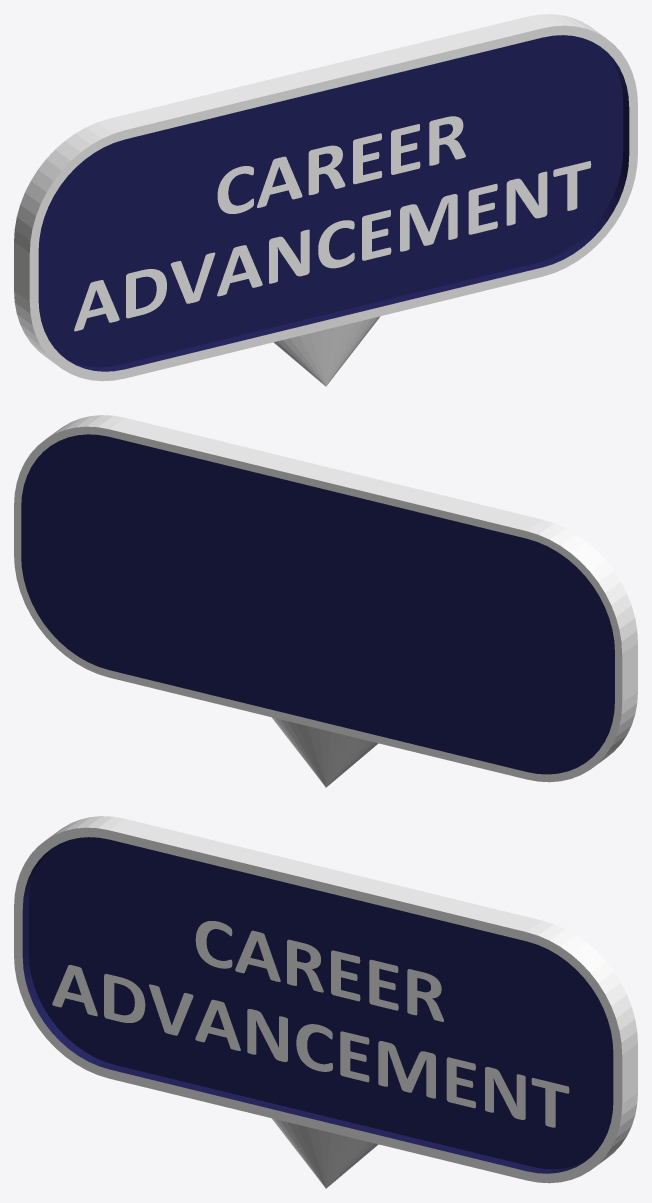
File: CareerAdvancedHoverd.glb
The picture shows the model from 3 angles, top to bottom: view 1: azimuth 30°, elevation 25°; view 2: azimuth 150°, elevation 25°; view 3: azimuth 330°, elevation 25°; orthographic projection.
Parts seen in each view (by area): view 1: 立方体, 文本, 立方体.001, 立方体.002, 立方体.004; view 2: 立方体, 立方体.003, 立方体.002, 立方体.004; view 3: 立方体, 文本, 立方体.001, 立方体.002, 立方体.004.
Part boxes in pixels (box(x1,y1,x2,y2)): 立方体: box(38, 35, 629, 371); 文本: box(74, 116, 591, 331); 立方体.001: box(29, 25, 637, 381); 立方体.002: box(14, 14, 603, 366); 立方体.004: box(273, 316, 380, 386); 立方体: box(21, 434, 614, 774); 立方体.003: box(14, 426, 622, 782); 立方体.002: box(48, 415, 637, 767); 立方体.004: box(271, 717, 378, 787); 立方体: box(22, 837, 613, 1173); 文本: box(52, 921, 569, 1127); 立方体.001: box(14, 827, 622, 1183); 立方体.002: box(48, 816, 637, 1168); 立方体.004: box(271, 1118, 378, 1188).
Size of the model in its own units: 5.13 by 2.52 by 0.2745.
